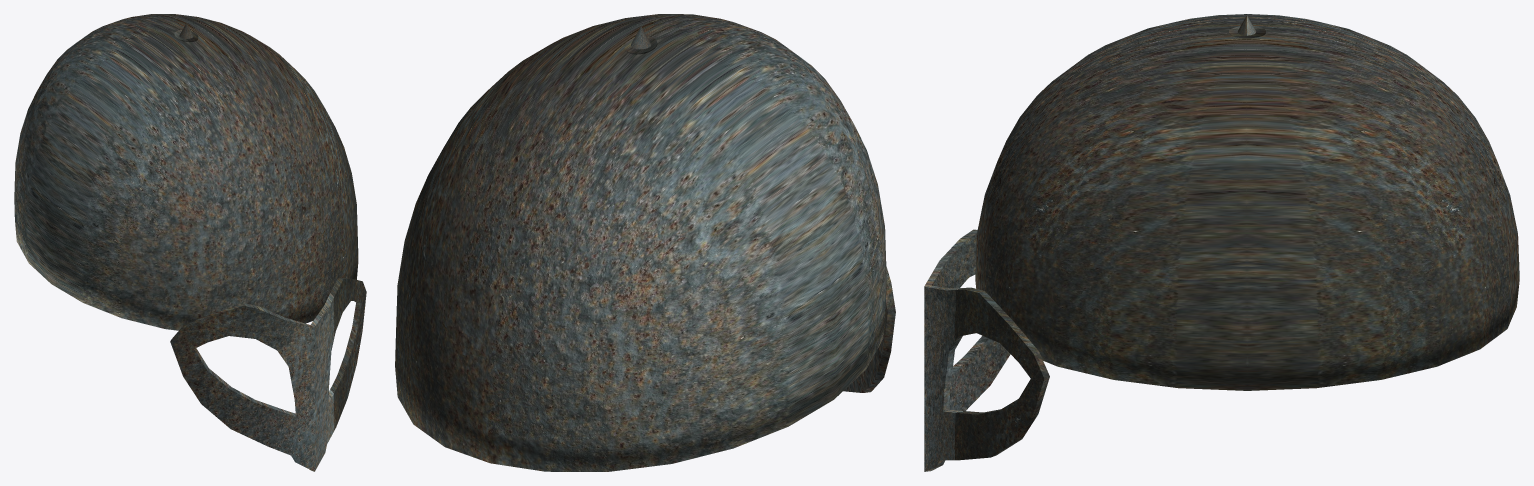
File: Viking Helmet.fbx
3 views of the same model, side by side, from view 1: azimuth 30°, elevation 25°; view 2: azimuth 150°, elevation 25°; view 3: azimuth 270°, elevation 25° (orthographic). The views are drawn at different scales.
Visible parts, largest first — view 1: Helmet, Mask; view 2: Helmet, Mask; view 3: Helmet, Mask.
Boxes of the visible parts, box(x1,y1,x2,y2) form: Helmet: box(14, 14, 358, 330); Mask: box(170, 278, 366, 471); Helmet: box(395, 14, 886, 471); Mask: box(838, 266, 895, 395); Helmet: box(975, 14, 1519, 390); Mask: box(924, 229, 1049, 471).
Size of the model in its own units: 19.04 by 23.8 by 28.18.
Materials: 2 (2 with a texture image).
